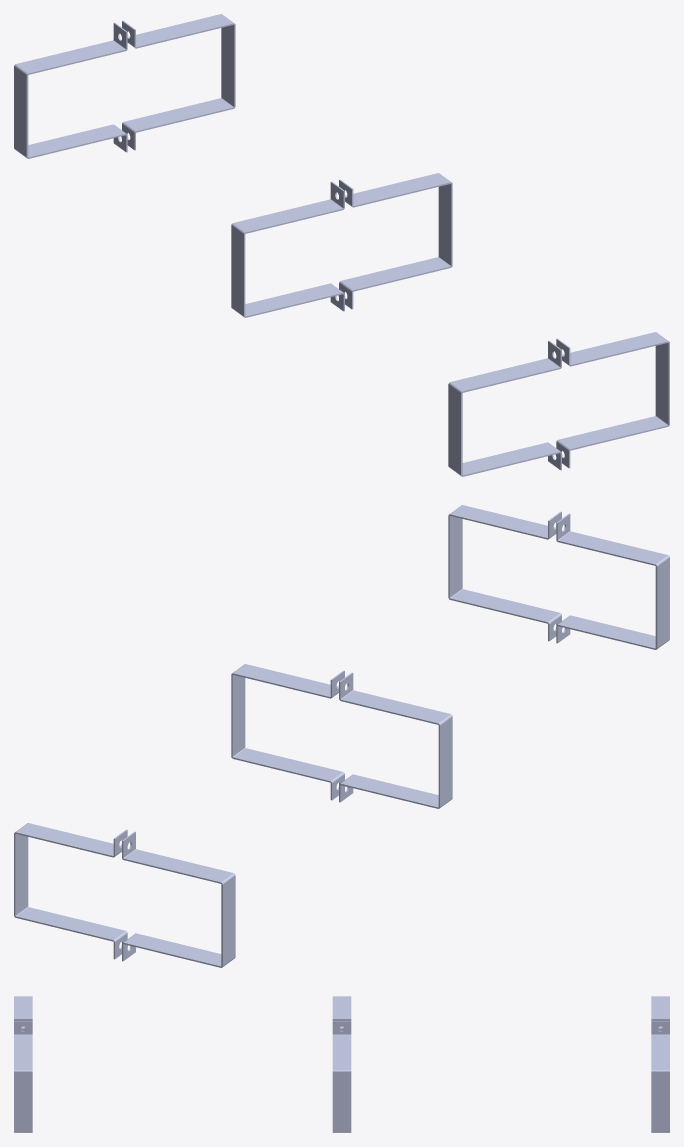
The model's file is BATTERY MODULE V1__SPINE ASSEMBLY__CLAMP ASSEMBLY__CLAMP.glb.
The picture shows the model from 3 angles, top to bottom: view 1: azimuth 30°, elevation 25°; view 2: azimuth 150°, elevation 25°; view 3: azimuth 270°, elevation 25°; orthographic projection. The views are drawn at different scales.
Visible parts, largest first — view 1: CLAMP 6, CLAMP 2, CLAMP 4, CLAMP 3, CLAMP 1, CLAMP 5; view 2: CLAMP 4, CLAMP 2, CLAMP 6, CLAMP 1, CLAMP 5, CLAMP 3; view 3: CLAMP 1, CLAMP 3, CLAMP 5, CLAMP 2, CLAMP 4, CLAMP 6.
Boxes of the visible parts, left/top/right/bottom form: CLAMP 6: left=14, top=22, right=127, bottom=158; CLAMP 2: left=231, top=181, right=344, bottom=317; CLAMP 4: left=448, top=340, right=561, bottom=476; CLAMP 3: left=556, top=332, right=669, bottom=468; CLAMP 1: left=339, top=173, right=452, bottom=309; CLAMP 5: left=122, top=14, right=235, bottom=150; CLAMP 4: left=556, top=513, right=669, bottom=649; CLAMP 2: left=339, top=672, right=452, bottom=808; CLAMP 6: left=122, top=831, right=235, bottom=967; CLAMP 1: left=231, top=664, right=344, bottom=800; CLAMP 5: left=14, top=823, right=127, bottom=959; CLAMP 3: left=448, top=505, right=561, bottom=641; CLAMP 1: left=332, top=1021, right=351, bottom=1132; CLAMP 3: left=14, top=1021, right=32, bottom=1132; CLAMP 5: left=651, top=1021, right=669, bottom=1132; CLAMP 2: left=332, top=996, right=351, bottom=1030; CLAMP 4: left=14, top=996, right=32, bottom=1031; CLAMP 6: left=651, top=996, right=669, bottom=1031.
Bounding box in the file's own units: 0.2394 × 0.1318 × 0.8878.
